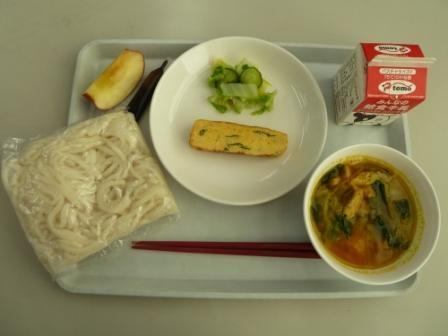Apple: (77, 47, 145, 110)
Bread: (175, 112, 297, 171)
Milk: (333, 30, 433, 136)
Salad: (189, 48, 288, 120)
Soups: (304, 145, 437, 277)
Udon: (2, 118, 162, 255)
